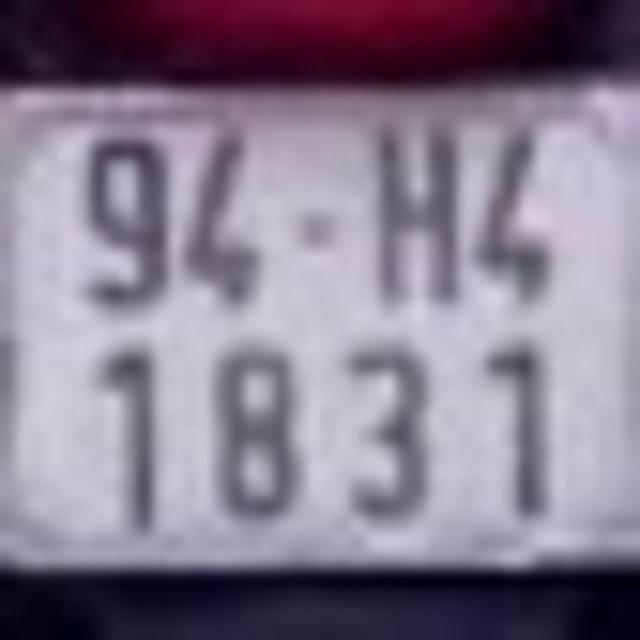1: (478, 328, 561, 517), (85, 343, 164, 532)
3: (334, 337, 434, 528)
4: (181, 127, 271, 308), (471, 116, 558, 303)
8: (211, 335, 304, 524)
9: (78, 130, 174, 313)
H: (370, 113, 465, 313)
